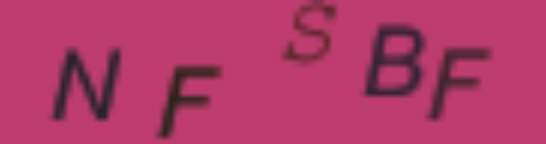B: (361, 22, 429, 102)
F: (153, 61, 229, 140), (427, 43, 496, 122)
N: (48, 44, 124, 125)
S: (280, 1, 337, 67)
